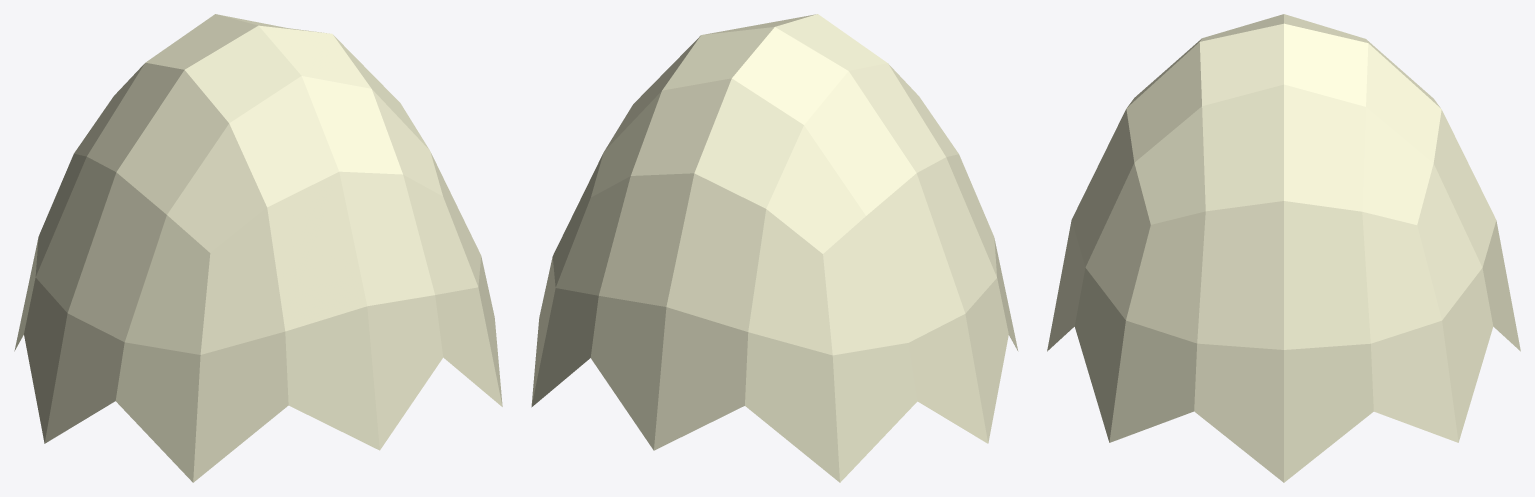
Rendered from eggshell_top.fbx.
3 views of the same model, side by side, from view 1: azimuth 30°, elevation 25°; view 2: azimuth 150°, elevation 25°; view 3: azimuth 270°, elevation 25° (orthographic). The views are drawn at different scales.
Parts seen in each view (by area): view 1: eggshell_top; view 2: eggshell_top; view 3: eggshell_top.
Part boxes in pixels (x1,y1,x2,y2): eggshell_top: [14, 14, 502, 482]; eggshell_top: [531, 14, 1018, 482]; eggshell_top: [1047, 14, 1520, 482].
Size of the model in its own units: 67.96 by 55.58 by 66.8.
